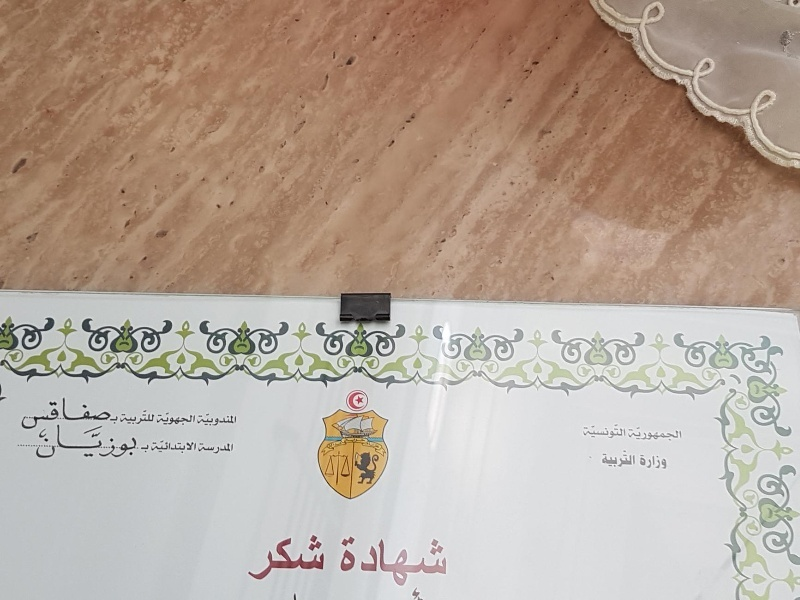text: (353, 531, 368, 588), (369, 531, 384, 588), (385, 531, 400, 588), (401, 531, 416, 588), (417, 531, 432, 588), (433, 531, 448, 588), (257, 532, 272, 580), (273, 532, 288, 580), (289, 532, 304, 580), (305, 532, 320, 580), (341, 531, 352, 588), (129, 423, 145, 462), (49, 423, 64, 462), (65, 423, 80, 462), (81, 423, 96, 462), (97, 423, 112, 462), (113, 423, 128, 462), (33, 394, 48, 431), (49, 394, 64, 431), (65, 394, 80, 431), (81, 394, 96, 431), (97, 394, 112, 431), (24, 394, 32, 431), (641, 451, 656, 470), (593, 422, 608, 440), (609, 422, 624, 440), (609, 450, 624, 468), (209, 411, 224, 428), (129, 410, 144, 426), (321, 532, 326, 580), (42, 423, 48, 462), (161, 439, 176, 454), (177, 439, 192, 454), (113, 394, 119, 431), (225, 411, 238, 428), (161, 412, 176, 426), (177, 412, 192, 426), (641, 427, 656, 441), (657, 427, 672, 441), (657, 451, 668, 470), (625, 450, 636, 468), (209, 443, 224, 455), (582, 422, 592, 440), (198, 411, 208, 428), (628, 427, 640, 441), (145, 410, 154, 426), (253, 532, 256, 580), (673, 427, 682, 441), (601, 450, 608, 468), (198, 443, 208, 455), (449, 531, 451, 588), (225, 443, 234, 455), (153, 439, 160, 454), (122, 410, 128, 426), (326, 441, 336, 450), (145, 443, 152, 455), (353, 438, 366, 444), (369, 441, 380, 448), (138, 443, 144, 455), (193, 439, 197, 454), (337, 441, 342, 450), (345, 438, 352, 444), (157, 412, 160, 426), (193, 412, 196, 426), (638, 451, 640, 470), (625, 422, 627, 440), (367, 441, 368, 448)
